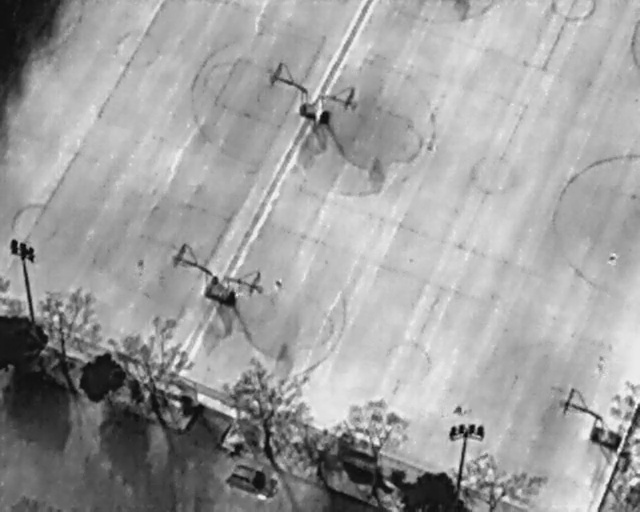Person: (607, 251, 619, 267)
